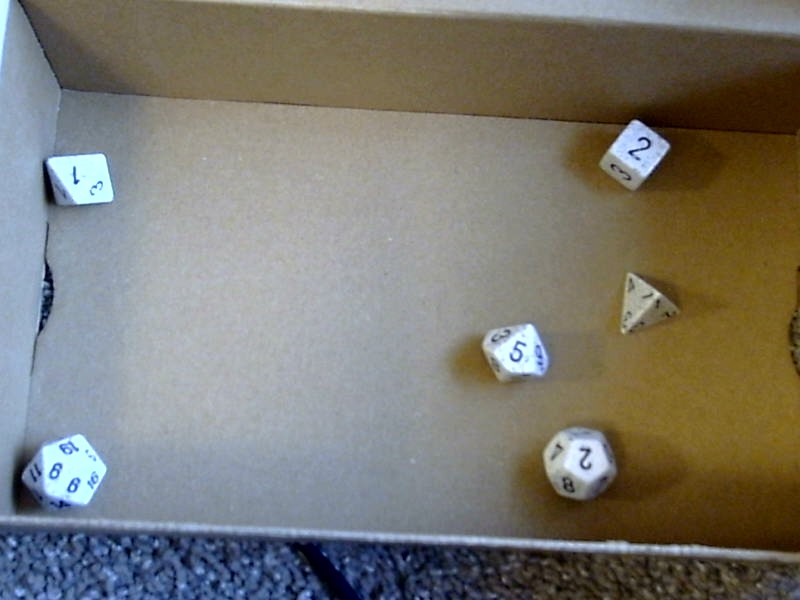d10 5: (472, 316, 560, 393)
d12 2: (536, 422, 624, 513)
d20 9: (11, 430, 105, 520)
d4 1: (617, 268, 684, 342)
d6 2: (591, 116, 673, 201)
d8 1: (37, 147, 122, 215)
